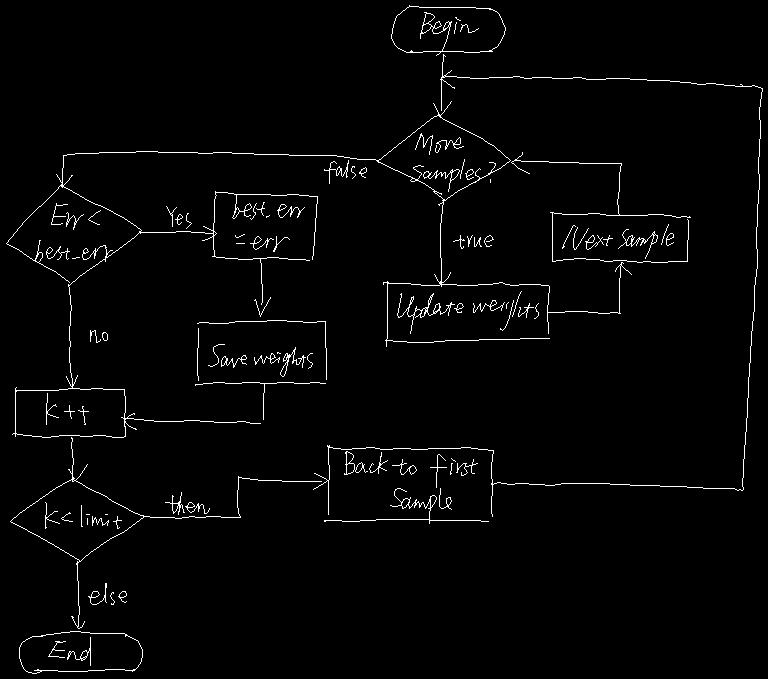arrow: (440, 70, 762, 490), (56, 151, 378, 187), (142, 473, 327, 518), (511, 152, 621, 215), (121, 383, 264, 429), (547, 262, 631, 313), (434, 200, 450, 286), (66, 284, 77, 387), (433, 54, 451, 115), (139, 226, 216, 240), (254, 258, 270, 316), (71, 561, 84, 628), (68, 437, 87, 480)
decision: (6, 183, 141, 286), (377, 114, 510, 205), (10, 478, 144, 564)
process: (324, 445, 493, 521), (383, 281, 549, 346), (195, 320, 326, 385), (212, 191, 317, 260), (550, 212, 690, 262), (12, 387, 125, 437)
terminator: (391, 5, 505, 52), (19, 631, 142, 673)
text: (344, 451, 477, 523), (397, 291, 538, 333), (410, 133, 495, 191), (35, 203, 112, 262), (232, 194, 304, 251), (562, 224, 673, 258), (208, 344, 312, 376), (420, 12, 478, 55), (45, 502, 121, 528), (46, 393, 88, 424), (48, 637, 90, 665), (165, 492, 209, 514), (324, 160, 366, 183), (88, 583, 126, 604), (166, 206, 191, 228), (453, 235, 493, 248), (90, 330, 107, 342)
